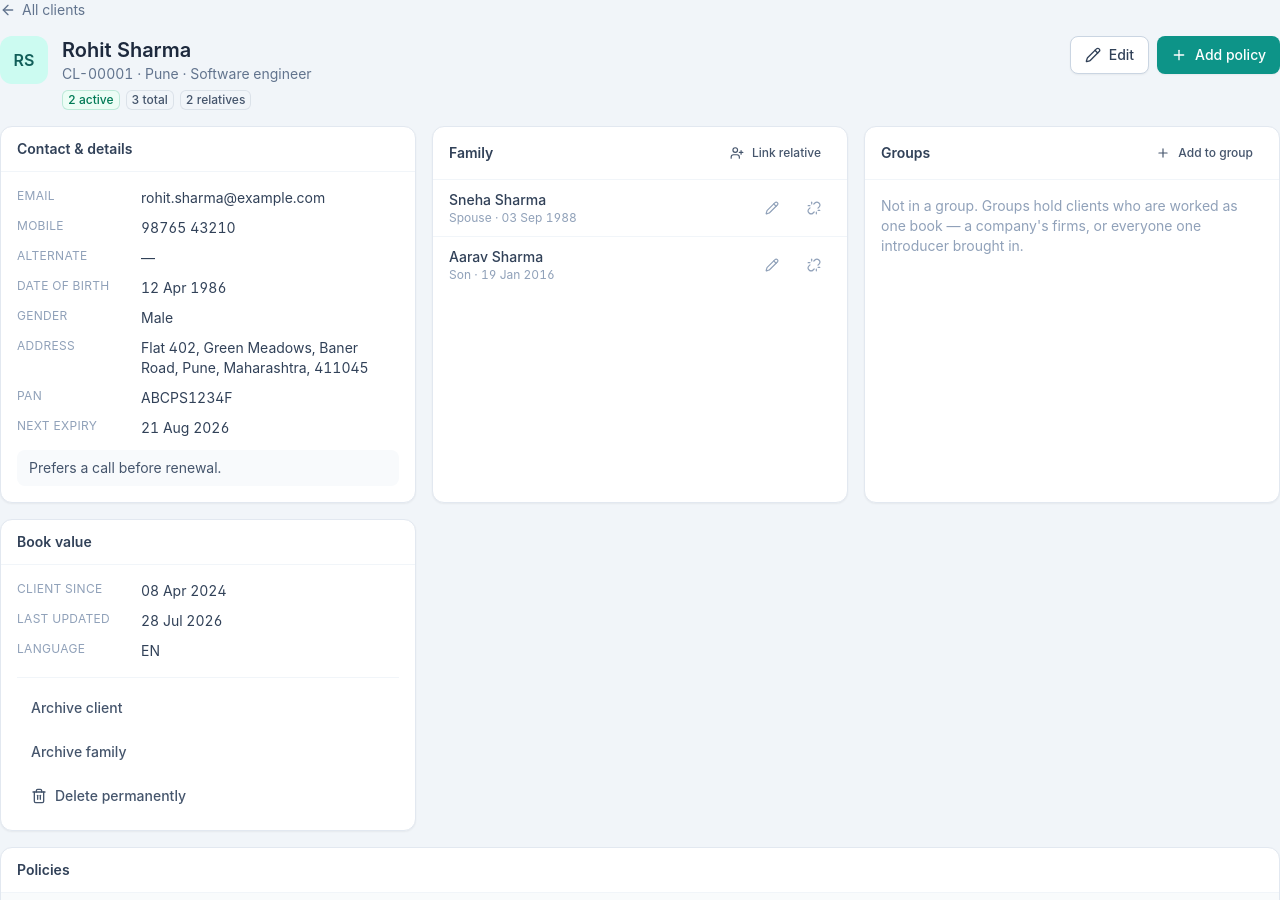
Test: the client's policies › adds a policy without asking which client it is for
The image size is (1280, 900).
Click the button "Add policy". click: [1219, 55]
box: 1157,36 -> 1279,74
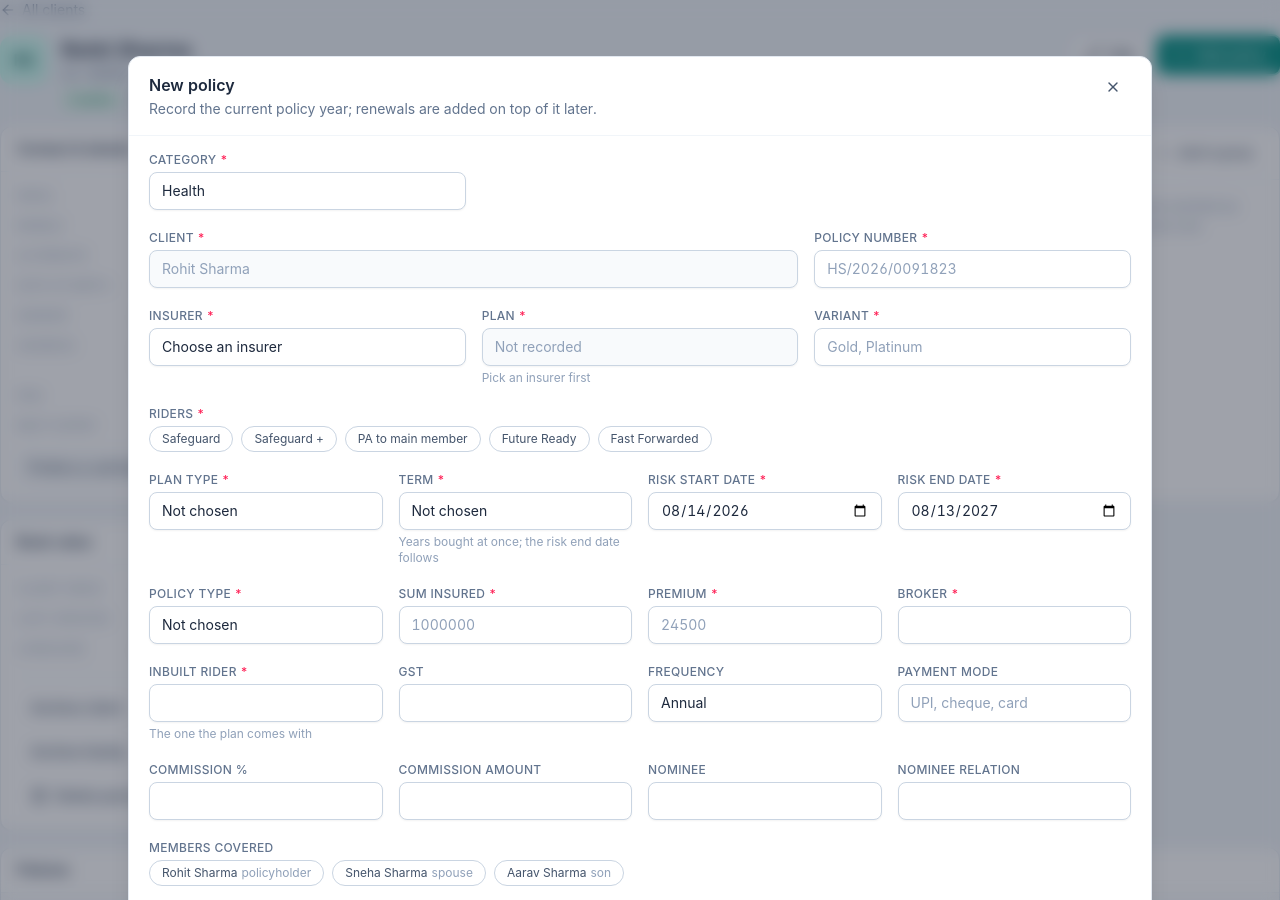
Expected: the heading "New policy" is shown, 149,75 -> 235,95
Expected: the field showing "Rohit Sharma" is disabled, 149,250 -> 798,288
